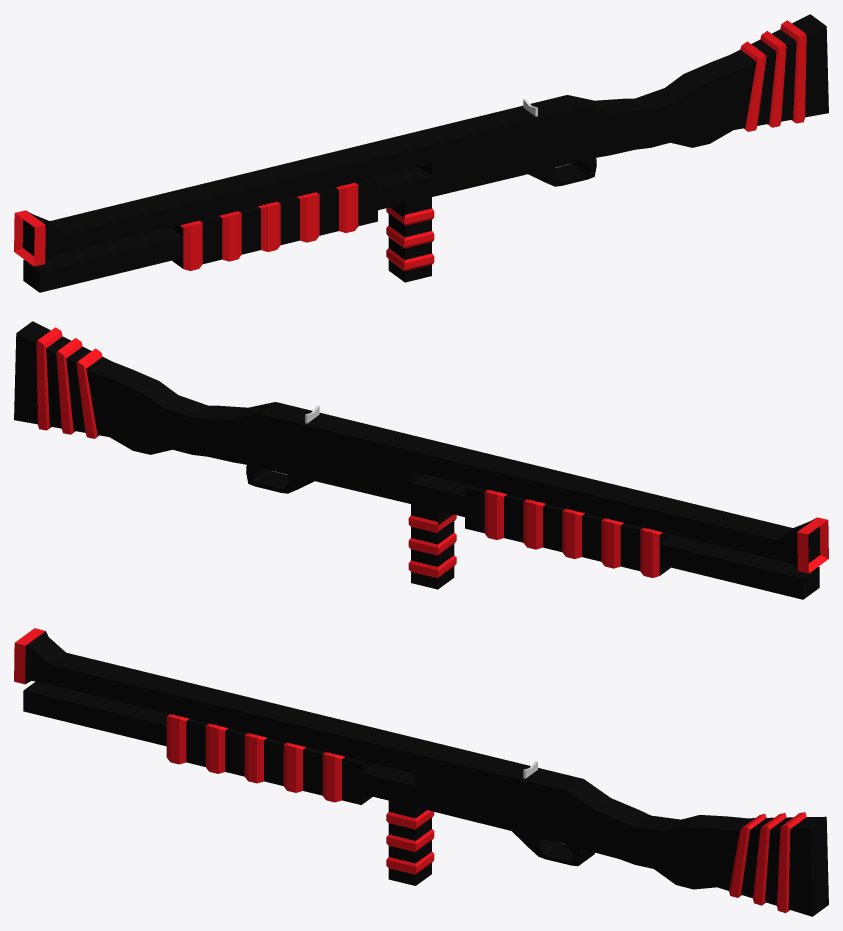
Rendered from Shotgun.fbx.
The picture shows the model from 3 angles, top to bottom: view 1: azimuth 30°, elevation 25°; view 2: azimuth 150°, elevation 25°; view 3: azimuth 330°, elevation 25°; orthographic projection.
Parts seen in each view (by area): view 1: Cube; view 2: Cube; view 3: Cube.
Boxes of the visible parts, x1,y1,x2,y2 form: Cube: (14, 14, 828, 292); Cube: (14, 321, 828, 599); Cube: (14, 628, 828, 916).
Size of the model in its own units: 368 by 16.08 by 67.72.
